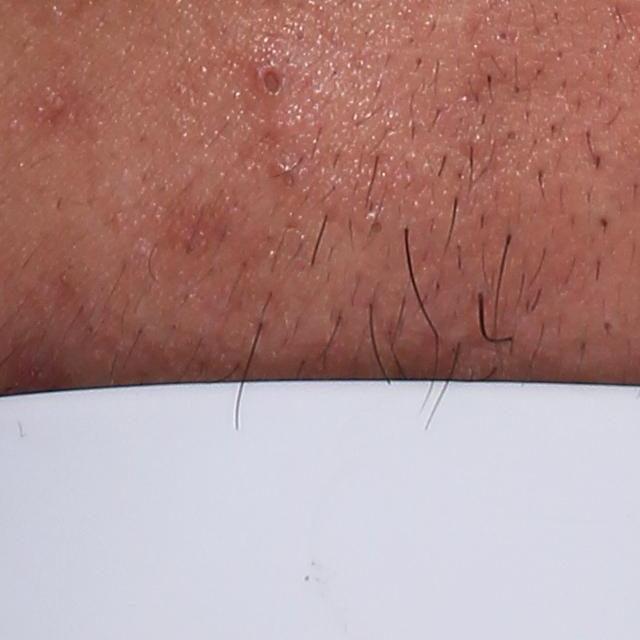comedo: (251, 53, 292, 106)
